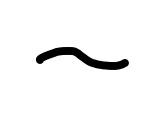minus: (36, 45, 128, 71)
